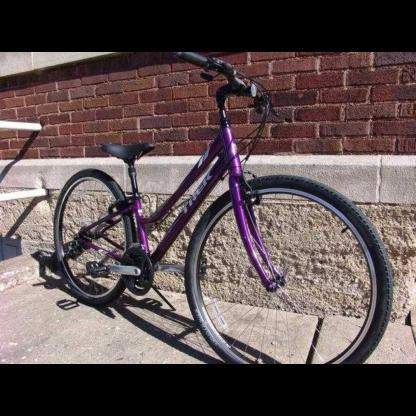Bicycle: (31, 44, 402, 362)
